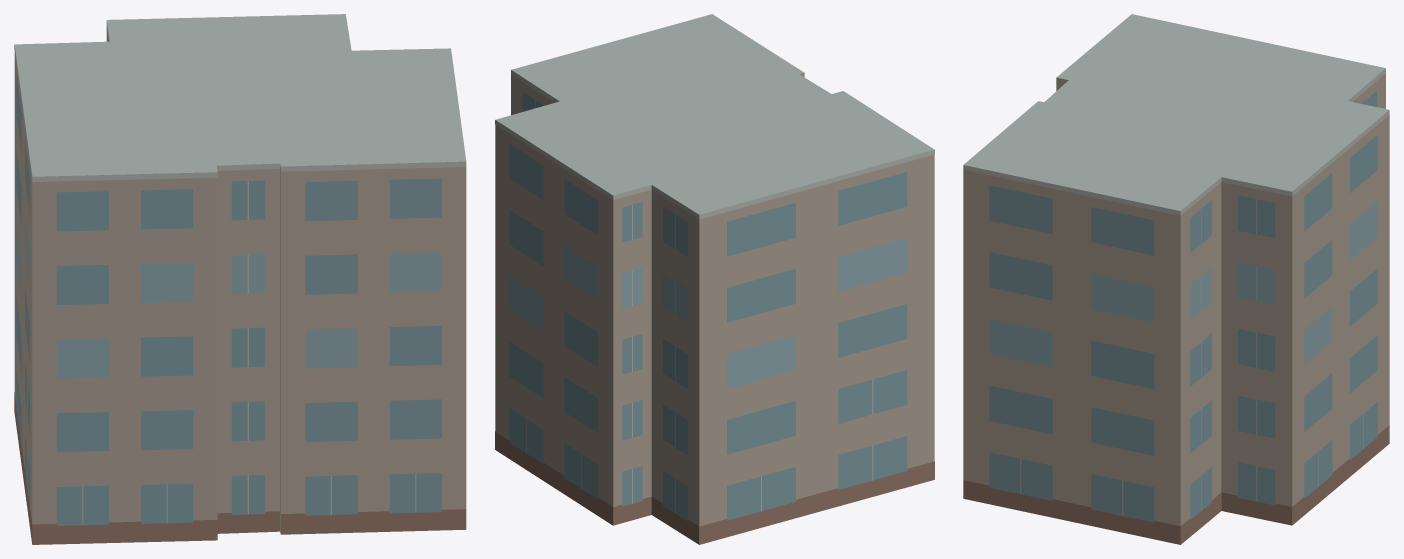
Rendered from survey-upis-32653512.glb.
3 renders of one model, left to right at view 1: azimuth 30°, elevation 25°; view 2: azimuth 150°, elevation 25°; view 3: azimuth 270°, elevation 25°, orthographic. The views are drawn at different scales.
Visible parts, largest first — view 1: survey-upis-32653512.tmp; view 2: survey-upis-32653512.tmp; view 3: survey-upis-32653512.tmp.
Part boxes in pixels (left/top/right/bottom): survey-upis-32653512.tmp: left=14, top=14, right=466, bottom=544; survey-upis-32653512.tmp: left=495, top=14, right=934, bottom=544; survey-upis-32653512.tmp: left=963, top=14, right=1389, bottom=544.
Bounding box in the file's own units: 21.54 × 17 × 19.69.
